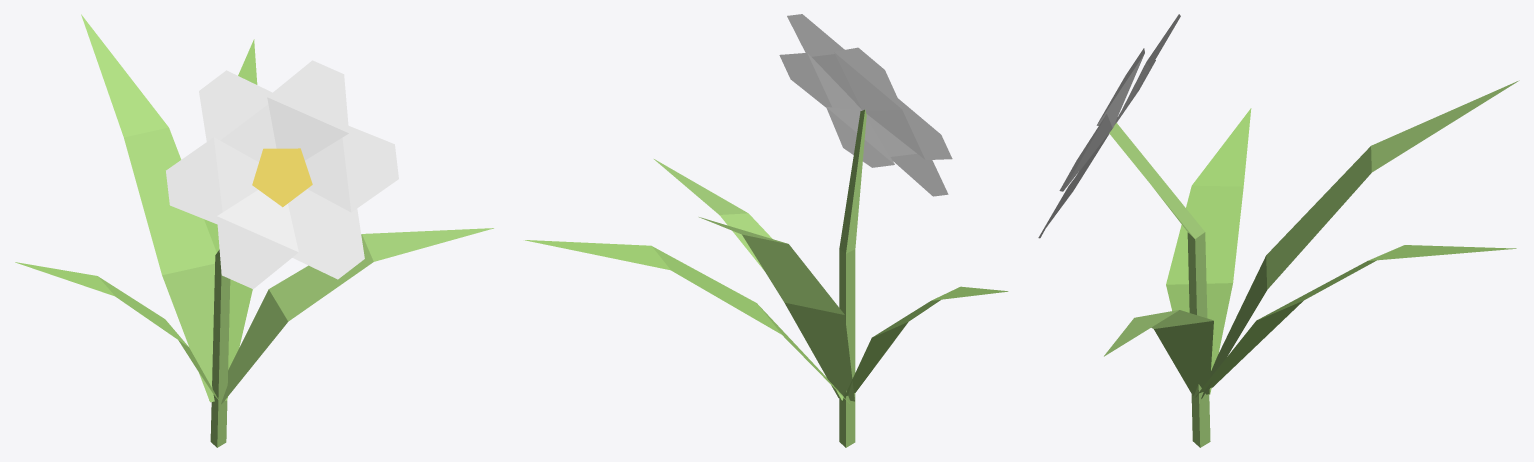
Rendered from Flower_e_TwoS_10.fbx.
3 renders of one model, left to right at view 1: azimuth 30°, elevation 25°; view 2: azimuth 150°, elevation 25°; view 3: azimuth 270°, elevation 25°, orthographic. The views are drawn at different scales.
Parts seen in each view (by area): view 1: Flower_e_TwoS_10; view 2: Flower_e_TwoS_10; view 3: Flower_e_TwoS_10.
Part boxes in pixels (bbox=[...]): Flower_e_TwoS_10: bbox=[15, 14, 493, 447]; Flower_e_TwoS_10: bbox=[525, 14, 1008, 447]; Flower_e_TwoS_10: bbox=[1038, 14, 1519, 447].
Size of the model in its own units: 0.419 by 0.3722 by 0.3746.
